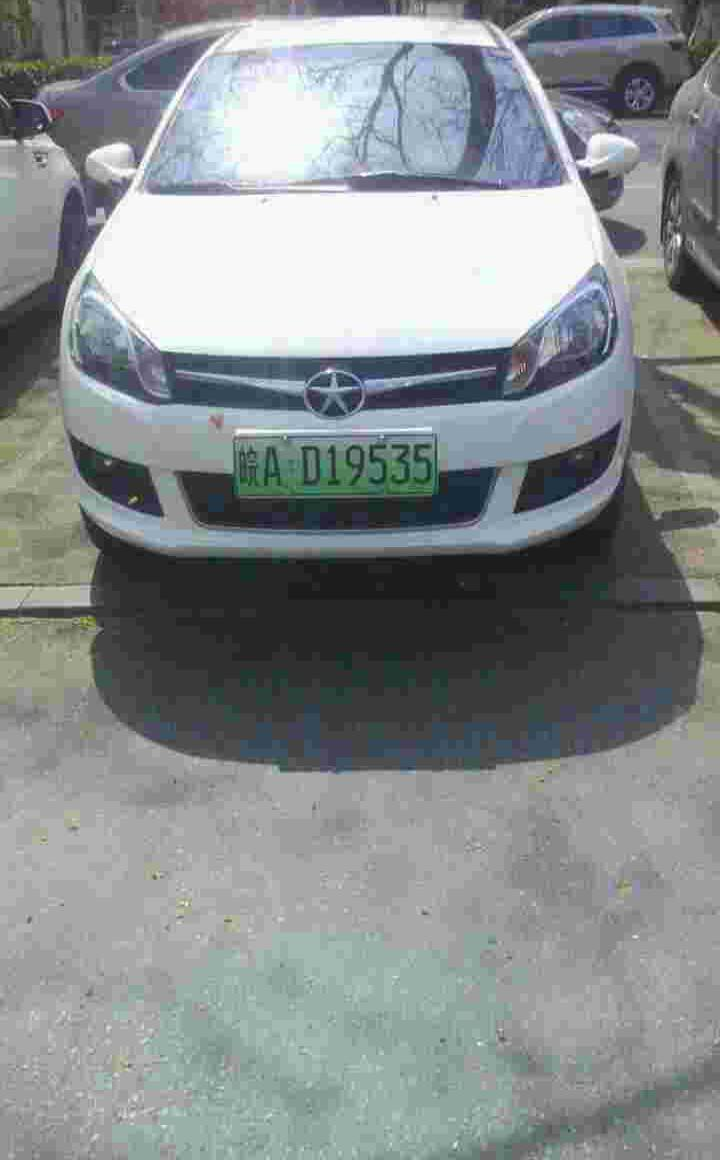car_green: (232, 429, 444, 498)
